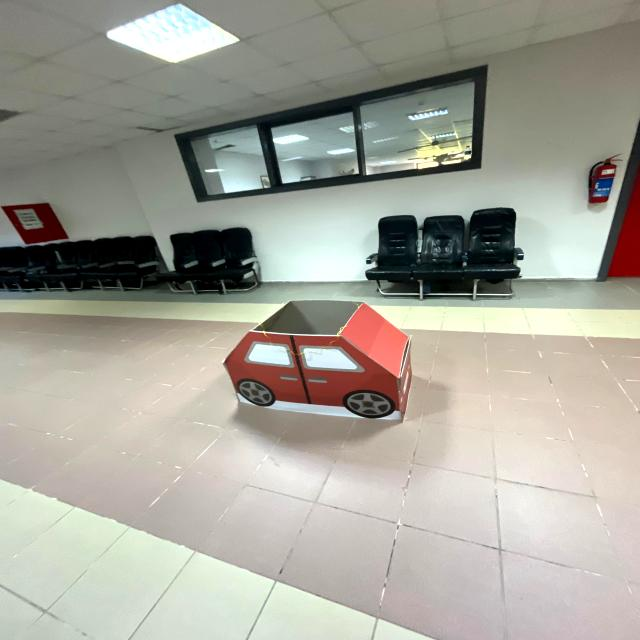red_car: (222, 288, 423, 436)
